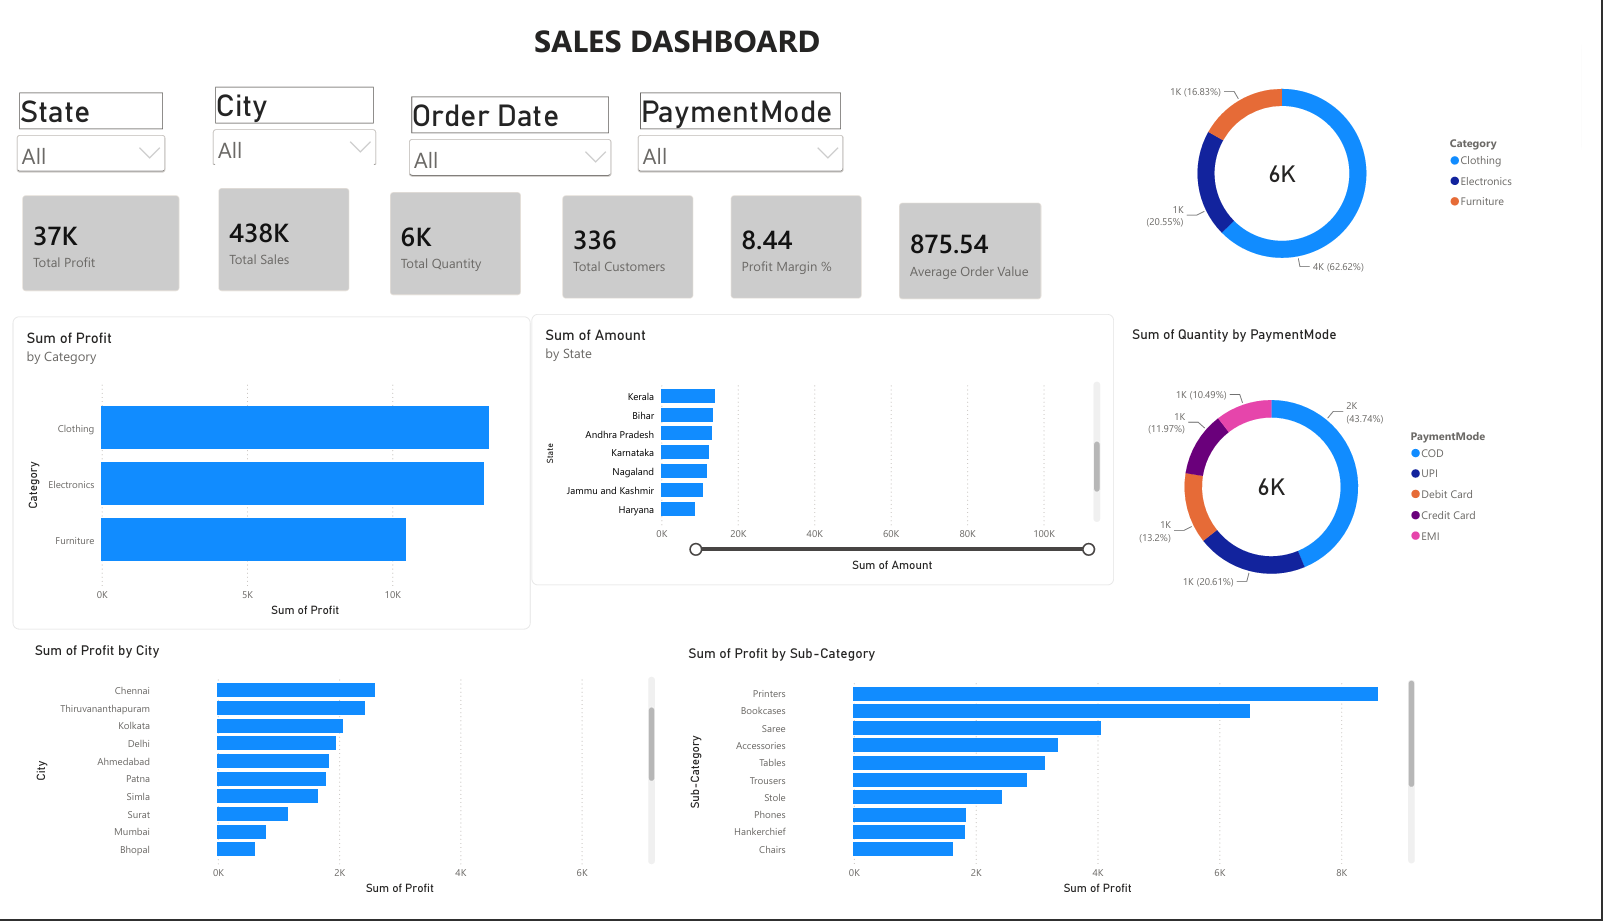

The page's visual inventory and layout, read from the dashboard file:
{"tool":"powerbi","page":{"name":"Page 1","canvas":[1920,1080],"ordinal":0},"visuals":[{"type":"barChart","fields":{"Category":["Orders (1).State"],"Y":["Sum(Details (1).Amount)"]},"box":[635,365,712.7,331.7],"z":0},{"type":"donutChart","fields":{"Category":["Details (1).PaymentMode"],"Y":["Sum(Details (1).Quantity)"]},"box":[1365,380,459.4,363.1],"z":1000},{"type":"barChart","fields":{"Category":["Orders (1).City"],"Y":["Sum(Details (1).Profit)"]},"box":[22.4,766.4,768.7,313.7],"z":2000},{"type":"barChart","fields":{"Category":["Details (1).Sub-Category"],"Y":["Sum(Details (1).Profit)"]},"box":[822,770,898.7,309.3],"z":3000},{"type":"donutChart","fields":{"Category":["Details (1).Category"],"Y":["Sum(Details (1).Quantity)"]},"box":[1347.5,52.5,496,280],"z":4000},{"type":"clusteredBarChart","fields":{"Category":["Details (1).Category"],"Y":["Sum(Details (1).Profit)"]},"box":[0,367.5,634.2,383.2],"z":5000},{"type":"cardVisual","fields":{"Data":["Details (1).Average Order Value"]},"box":[1073.5,217.4,198,142],"z":6000},{"type":"cardVisual","fields":{"Data":["Details (1).Total Profit"]},"box":[0,208.4,216.4,141.7],"z":7000},{"type":"cardVisual","fields":{"Data":["Orders (1).Total Sales"]},"box":[239.8,199.5,184,150],"z":8000},{"type":"cardVisual","fields":{"Data":["Details (1).Total Quantity"]},"box":[450.5,203.9,184,150],"z":9000},{"type":"cardVisual","fields":{"Data":["Details (1).Total Customers"]},"box":[661.1,208.4,184,150],"z":10000},{"type":"cardVisual","fields":{"Data":["Details (1).Profit Margin %"]},"box":[867.3,208.4,184,150],"z":11000},{"type":"slicer","fields":{"Values":["Orders (1).State"]},"box":[0,94,192,106],"z":12000},{"type":"slicer","fields":{"Values":["Orders (1).City"]},"box":[239.8,87.4,210.7,94.1],"z":13000},{"type":"slicer","fields":{"Values":["Orders (1).Order Date"]},"box":[479.6,98.6,258.5,109.1],"z":14000},{"type":"textbox","box":[633.3,0,440,75],"z":14500},{"type":"slicer","fields":{"Values":["Details (1).PaymentMode"]},"box":[759.7,94.1,262.3,109.1],"z":15000}]}

Visuals, with their boxes in screenshot pixels (x1, y1, x2, y2), scaled from the page's 1920x1080 canvas onto the 1603x921 screenshot:
barChart - Orders (1).State x Sum(Details (1).Amount): [530,311,1125,594]
donutChart - Details (1).PaymentMode x Sum(Details (1).Quantity): [1140,324,1523,634]
barChart - Orders (1).City x Sum(Details (1).Profit): [19,654,660,920]
barChart - Details (1).Sub-Category x Sum(Details (1).Profit): [686,657,1437,920]
donutChart - Details (1).Category x Sum(Details (1).Quantity): [1125,45,1539,284]
clusteredBarChart - Details (1).Category x Sum(Details (1).Profit): [0,313,529,640]
cardVisual - Details (1).Average Order Value: [896,185,1062,306]
cardVisual - Details (1).Total Profit: [0,178,181,299]
cardVisual - Orders (1).Total Sales: [200,170,354,298]
cardVisual - Details (1).Total Quantity: [376,174,530,302]
cardVisual - Details (1).Total Customers: [552,178,706,306]
cardVisual - Details (1).Profit Margin %: [724,178,878,306]
slicer - Orders (1).State: [0,80,160,171]
slicer - Orders (1).City: [200,75,376,155]
slicer - Orders (1).Order Date: [400,84,616,177]
textbox: [529,0,896,64]
slicer - Details (1).PaymentMode: [634,80,853,173]
